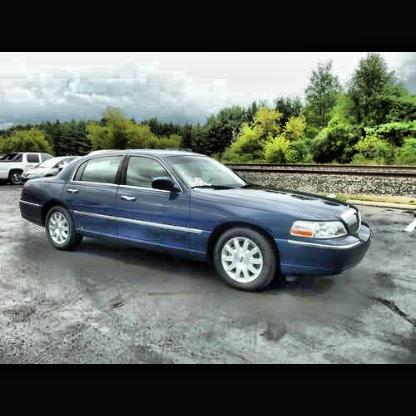Lincoln Town Car Sedan 2011: (19, 148, 375, 298)
